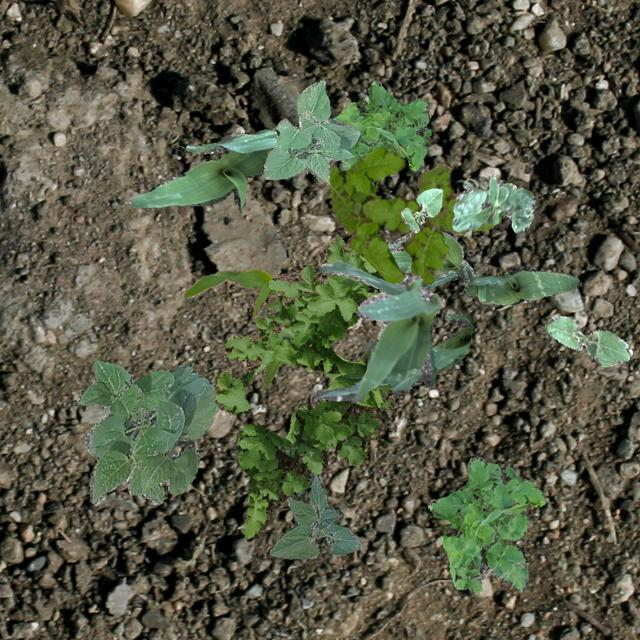crop: (76, 359, 216, 504), (314, 259, 444, 402), (128, 128, 278, 212), (184, 268, 282, 386), (262, 78, 360, 184), (268, 472, 359, 558), (389, 312, 474, 393), (386, 230, 476, 290), (452, 172, 534, 232), (462, 264, 580, 304), (544, 316, 632, 366), (399, 188, 441, 232)
weed: (214, 235, 394, 540), (328, 144, 494, 284), (426, 454, 544, 592), (332, 80, 429, 170)
